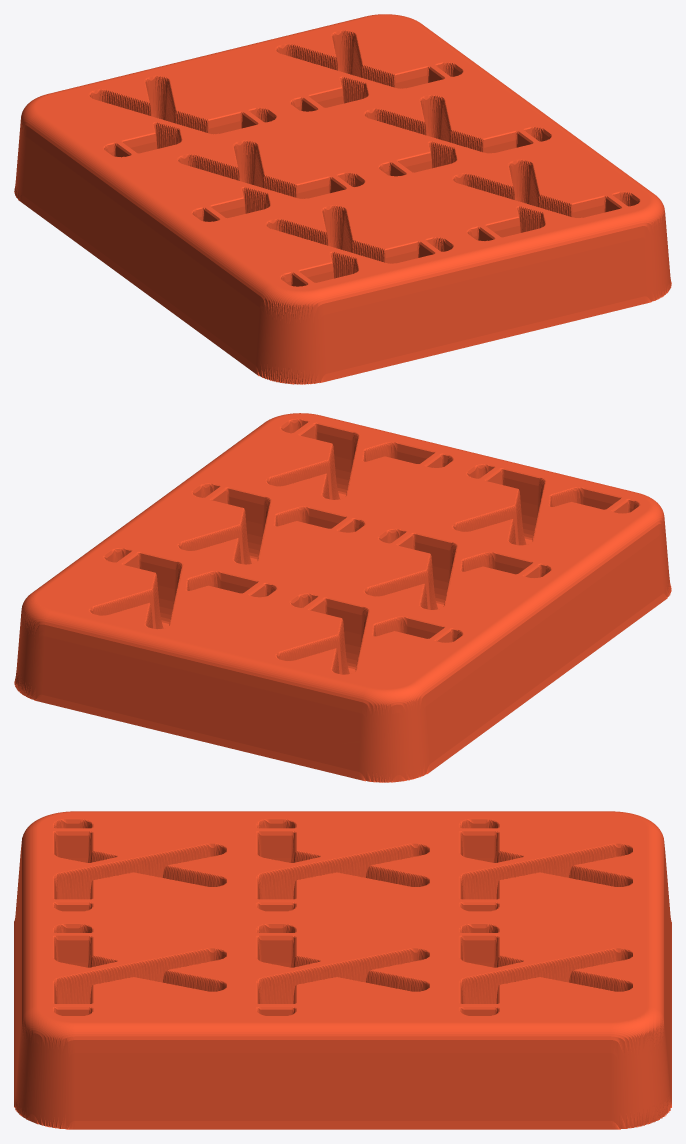
File: mold.glb
The picture shows the model from 3 angles, top to bottom: view 1: azimuth 30°, elevation 25°; view 2: azimuth 150°, elevation 25°; view 3: azimuth 270°, elevation 25°; orthographic projection. The views are drawn at different scales.
Visible parts, largest first — view 1: geometry_0; view 2: geometry_0; view 3: geometry_0.
Part boxes in pixels (left/top/right/bottom): geometry_0: left=14, top=14, right=671, bottom=384; geometry_0: left=14, top=413, right=671, bottom=782; geometry_0: left=14, top=811, right=671, bottom=1129.
Size of the model in its own units: 0.0808 by 0.0159 by 0.0978.
